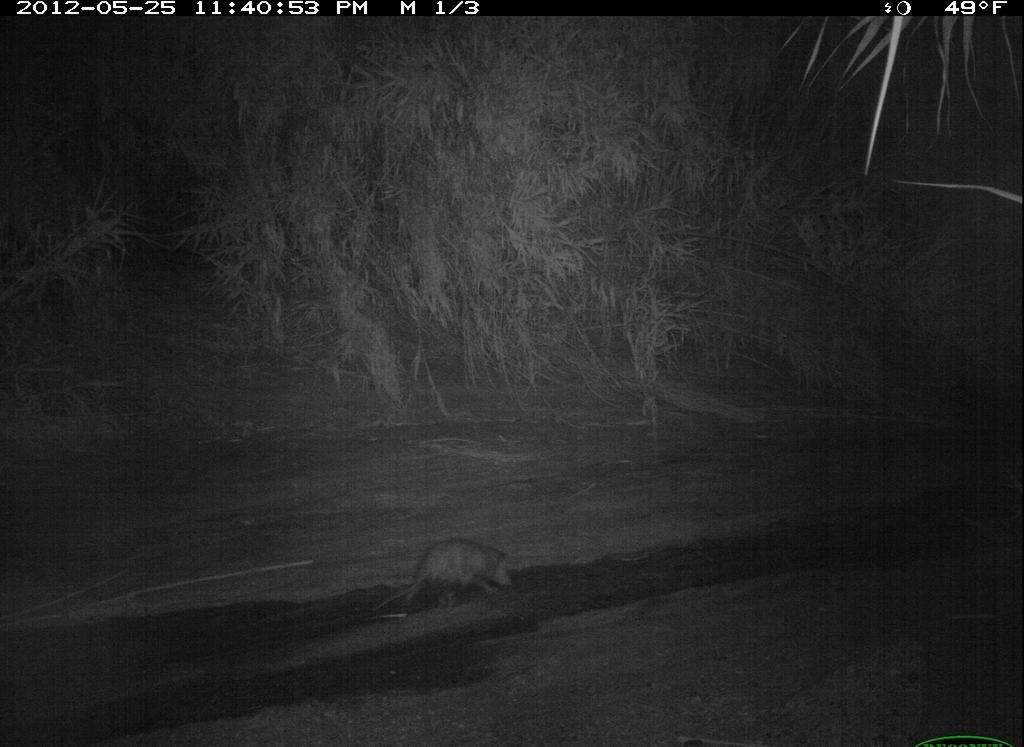opossum: (383, 536, 523, 616)
